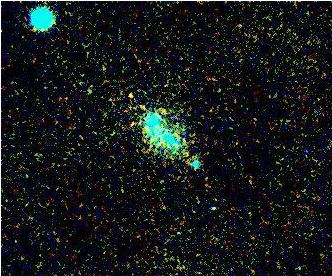star: (115, 81, 145, 111)
